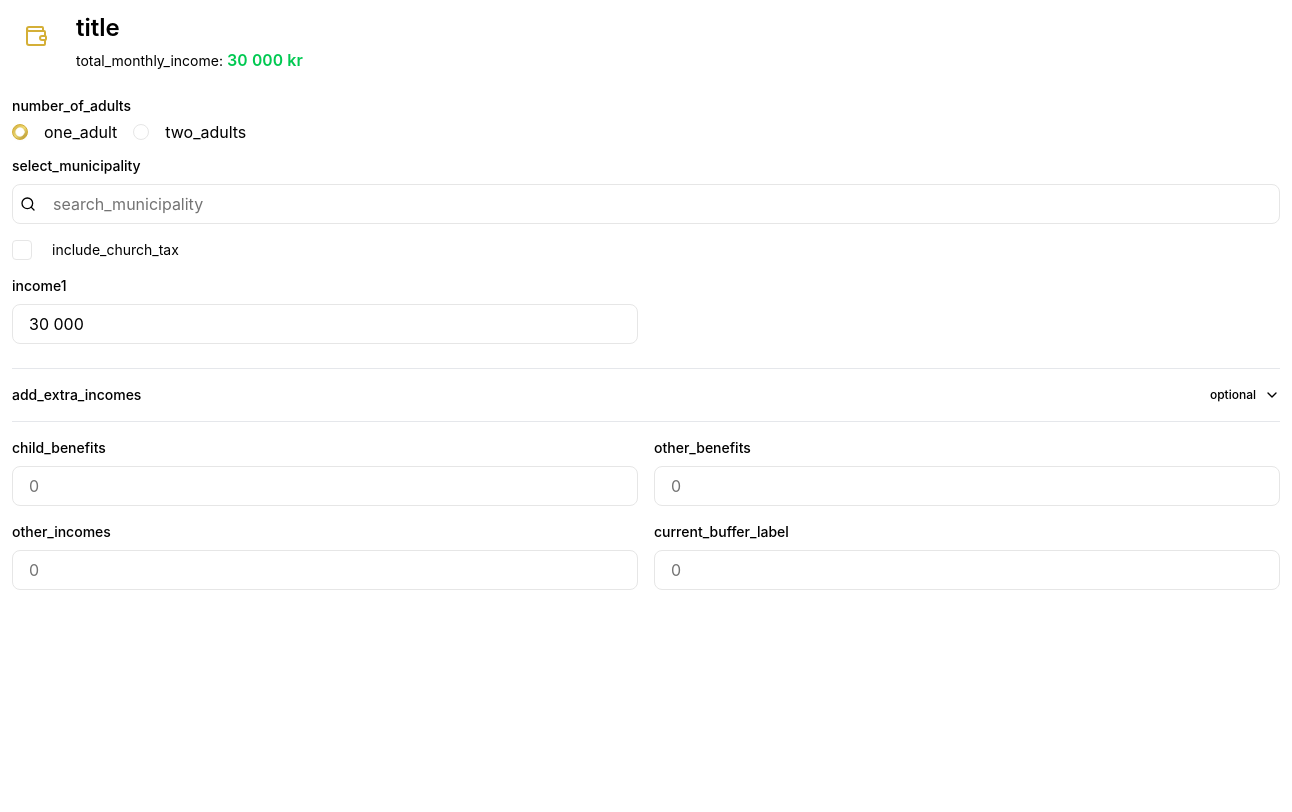
Income › Secondary Income Tax Rate Slider › should show tax rate slider when secondary income 1 is entered
// Expand secondary income section
Click the button with test id "extra-incomes-toggle" at (77, 394), box x1=12 y1=369 x2=1280 y2=421
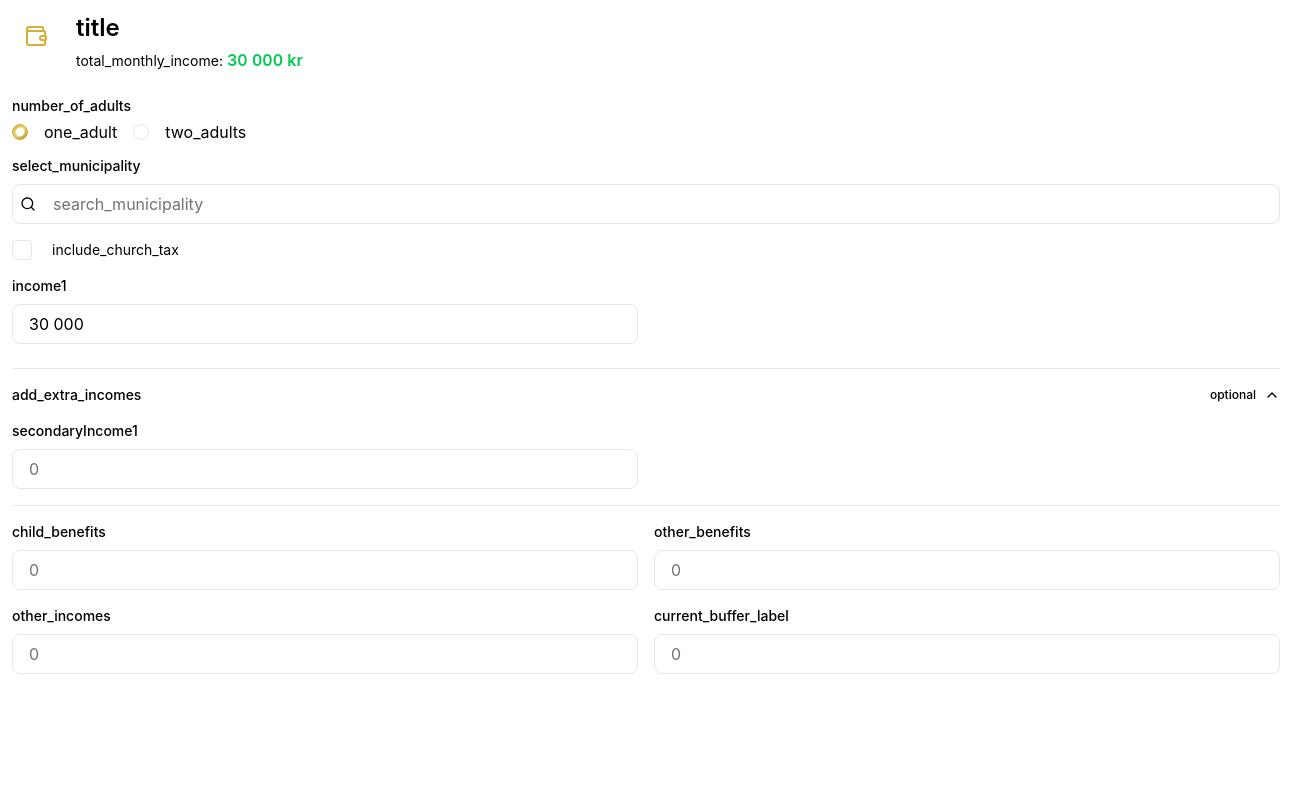
Type "15000" into the field named "secondaryIncome1_aria" at (325, 469), box x1=12 y1=449 x2=638 y2=489
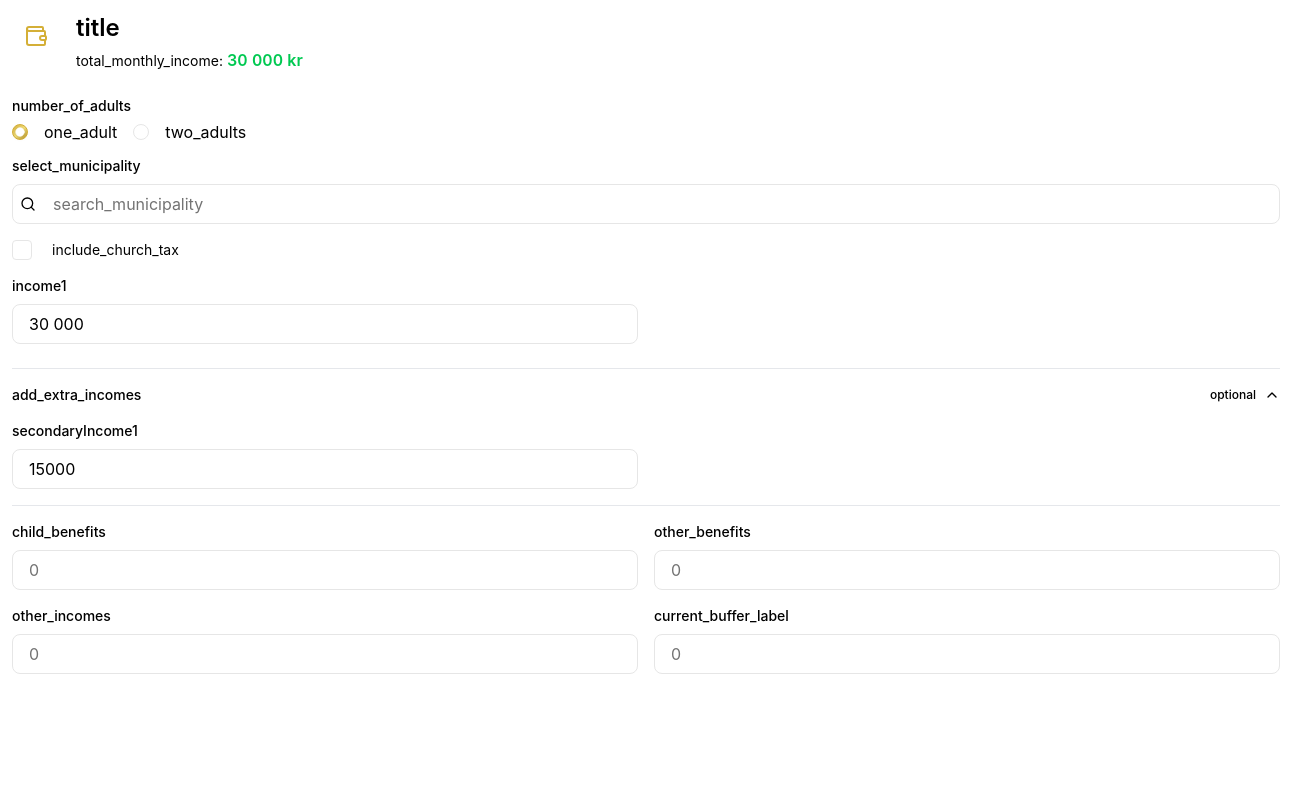
Leave the field named "secondaryIncome1_aria", box x1=12 y1=449 x2=638 y2=489
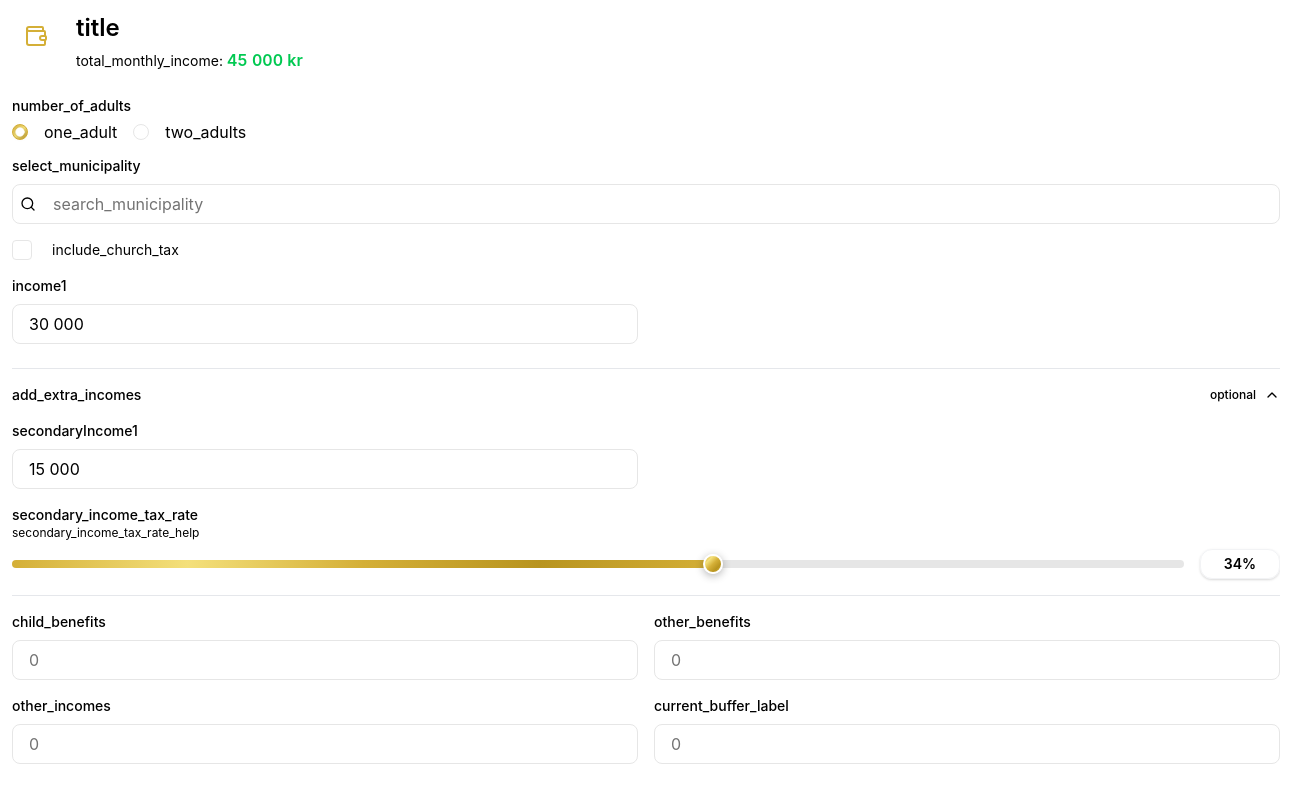
Now the number of sliders named "secondary_income_tax_rate_aria" is 2, box x1=12 y1=560 x2=1184 y2=568; x1=1200 y1=549 x2=1280 y2=579
